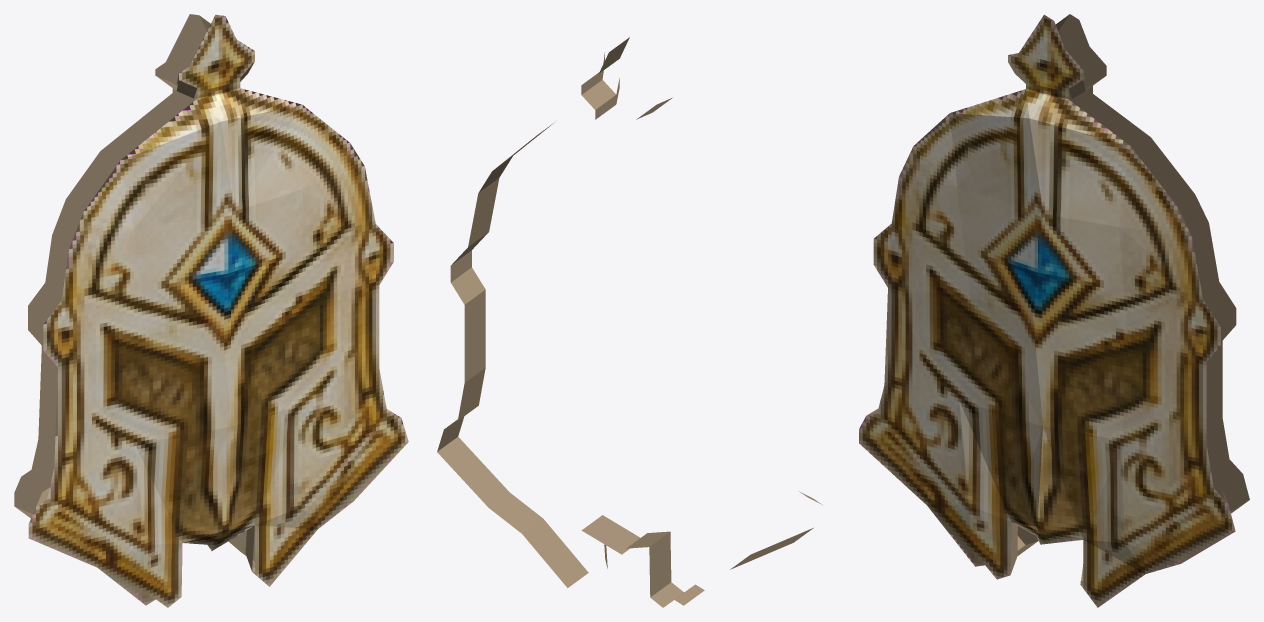
The model's file is gallery-helm-faceted.glb.
The picture shows the model from 3 angles, left to right: view 1: azimuth 30°, elevation 25°; view 2: azimuth 150°, elevation 25°; view 3: azimuth 330°, elevation 25°; orthographic projection.
Parts seen in each view (by area): view 1: orthographic-face, bevel-and-shell; view 2: bevel-and-shell; view 3: orthographic-face, bevel-and-shell.
Part boxes in pixels (x1,y1,x2,y2): orthographic-face: [28, 14, 408, 607]; bevel-and-shell: [14, 14, 407, 606]; bevel-and-shell: [437, 37, 822, 607]; orthographic-face: [859, 14, 1235, 607]; bevel-and-shell: [860, 14, 1249, 607].
Size of the model in its own units: 0.849 by 1.25 by 0.1393.
Materials: 2 (1 with a texture image).
